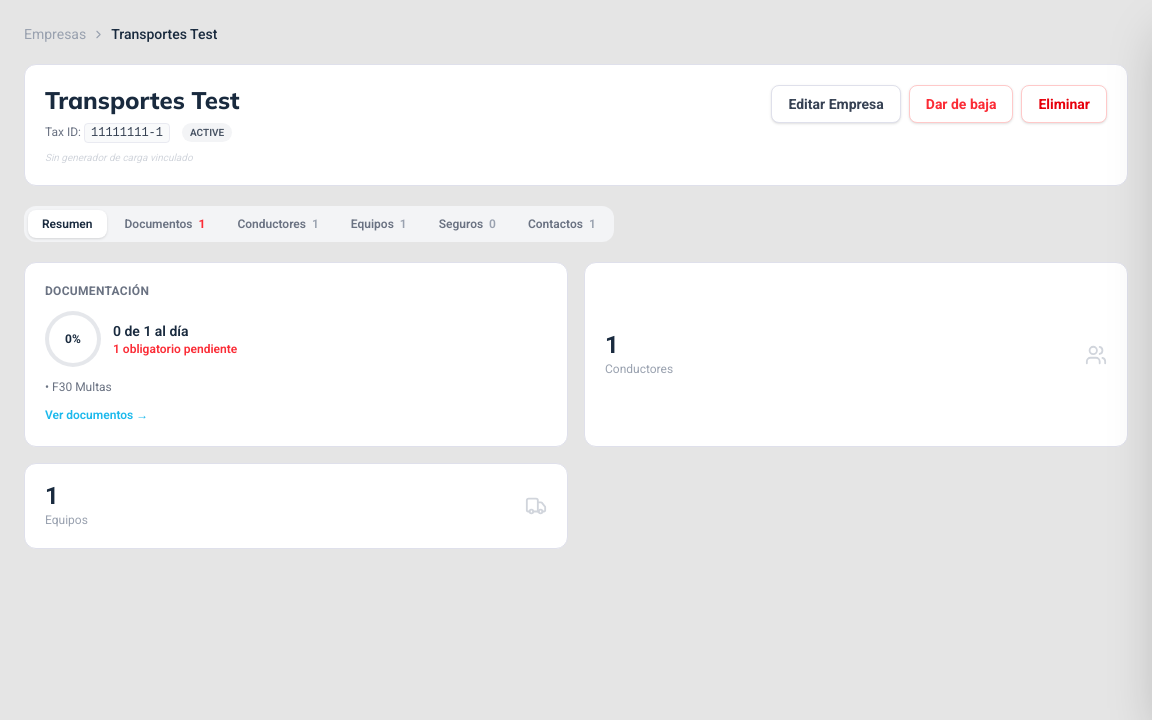
Test: EmpresaDetailPage › does not poison the contact draft after Cancelar: reopening Editar shows the real current values
Click the button "Contactos1" at {"x": 562, "y": 224}, box x1=514 y1=210 x2=610 y2=238
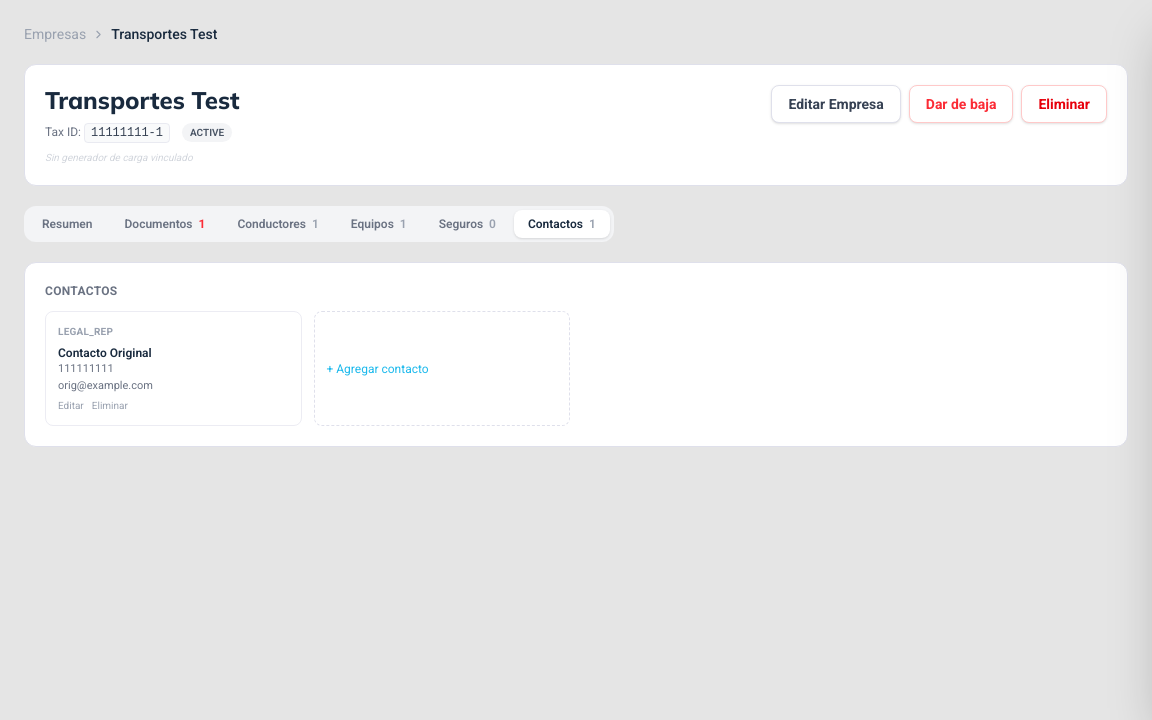
Result: the text "Contacto Original" is shown at x1=58 y1=346 x2=152 y2=360
Click the button "Editar" at {"x": 71, "y": 406}, box x1=58 y1=398 x2=84 y2=413
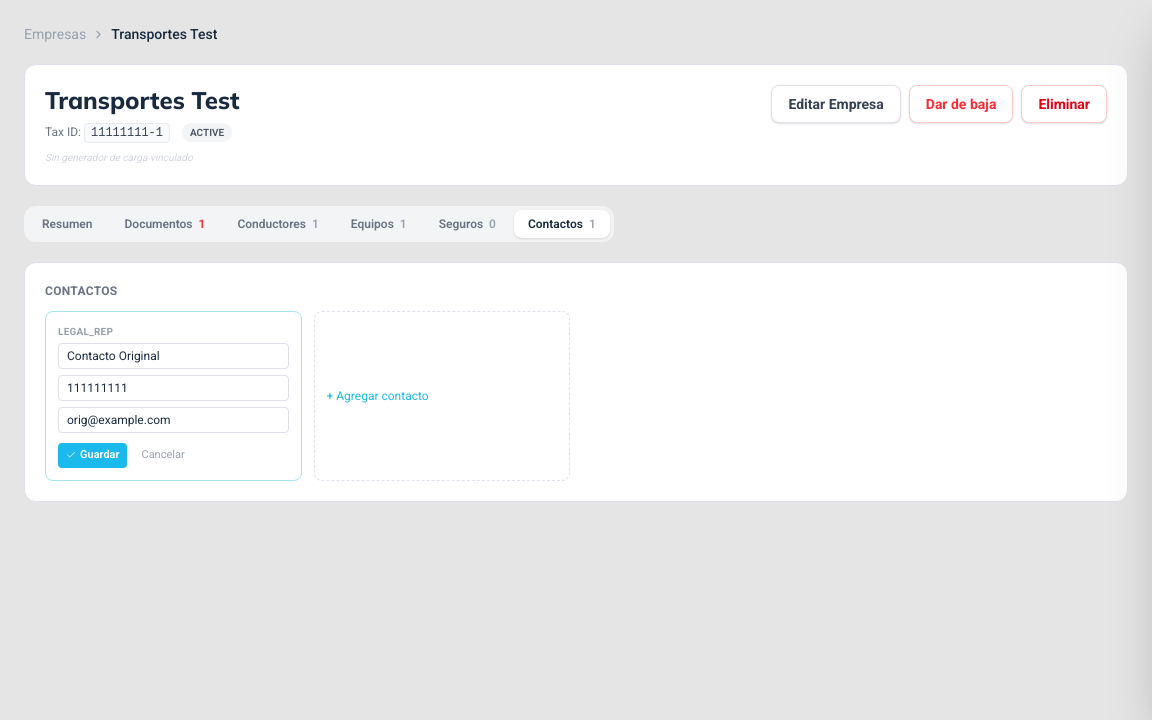
Result: the 2nd field with placeholder "Teléfono" holds "111111111"
Clear the 2nd field with placeholder "Teléfono" at {"x": 173, "y": 388}, box x1=58 y1=375 x2=288 y2=401
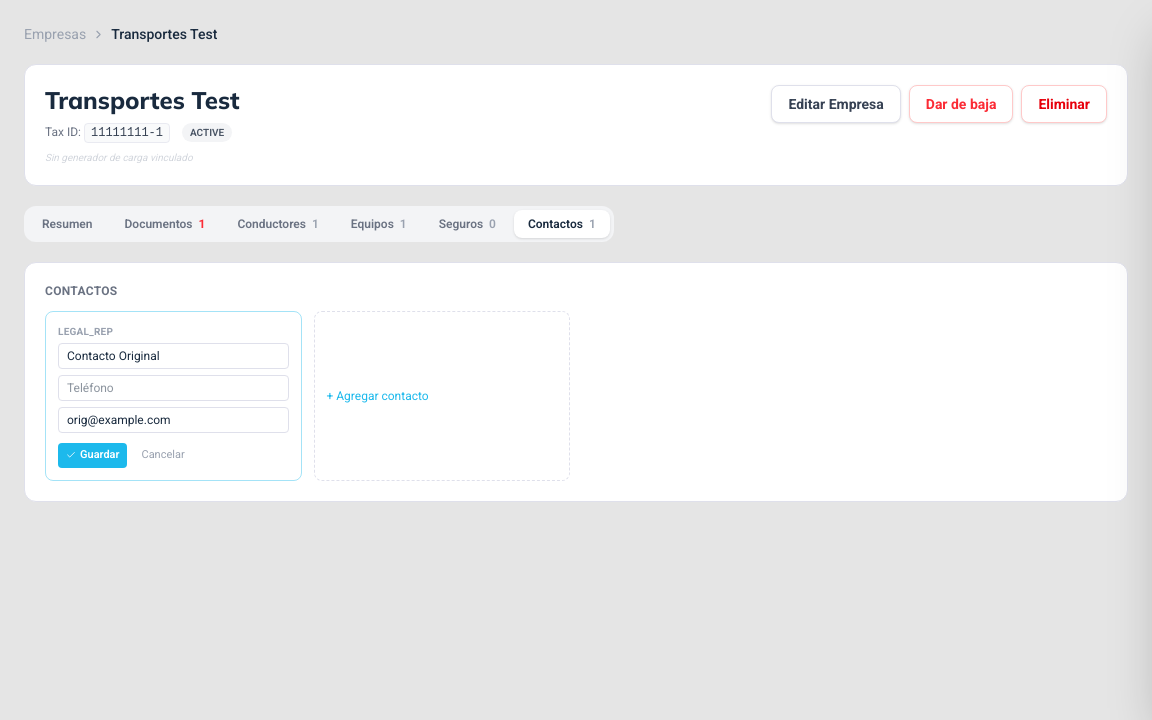
Click the button "Cancelar" at {"x": 163, "y": 455}, box x1=134 y1=443 x2=193 y2=468
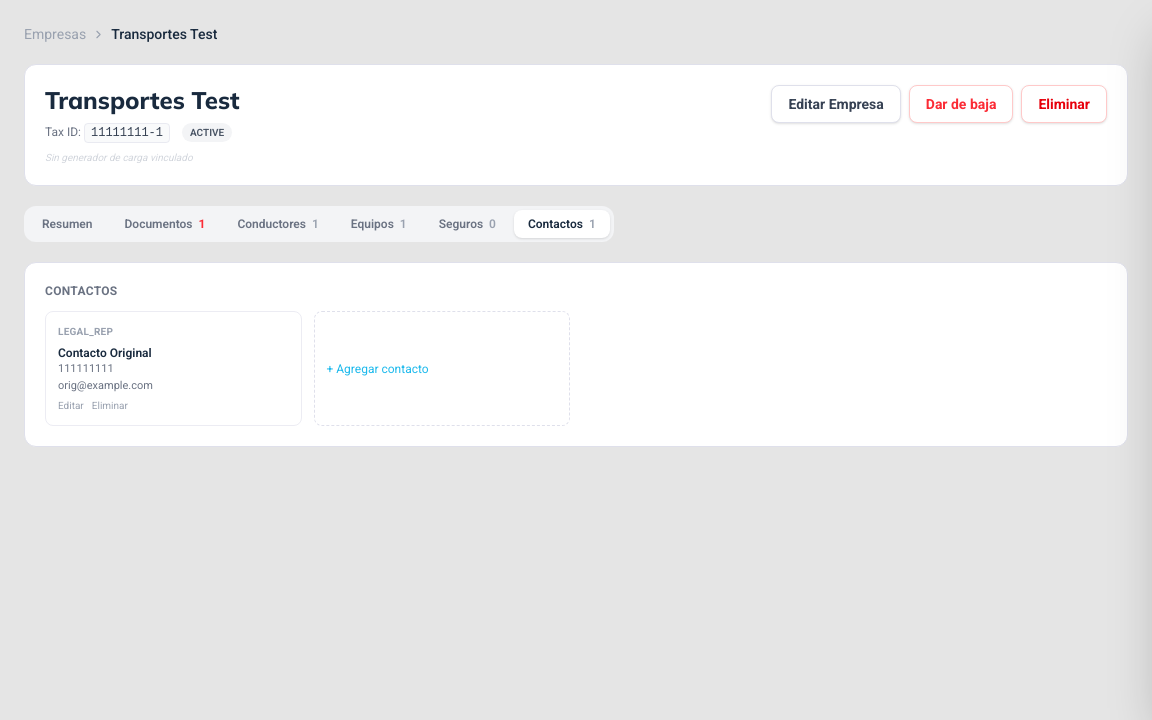
Result: the link "111111111" is shown at x1=58 y1=362 x2=114 y2=375
Click the button "Editar" at {"x": 71, "y": 406}, box x1=58 y1=398 x2=84 y2=413
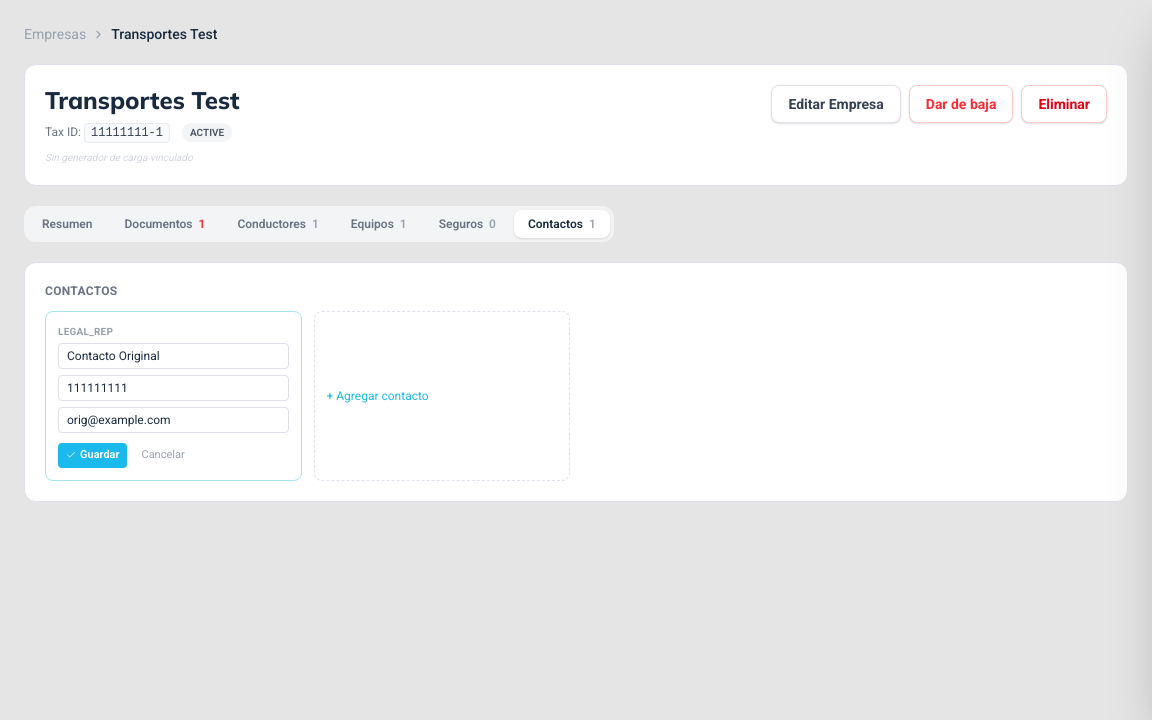
Result: the 2nd field with placeholder "Teléfono" holds "111111111" at x1=58 y1=375 x2=288 y2=401
Result: the 1st field with placeholder "Nombre" holds "Contacto Original" at x1=58 y1=343 x2=288 y2=369
Result: the 3rd field with placeholder "Email" holds "orig@example.com" at x1=58 y1=407 x2=288 y2=433
